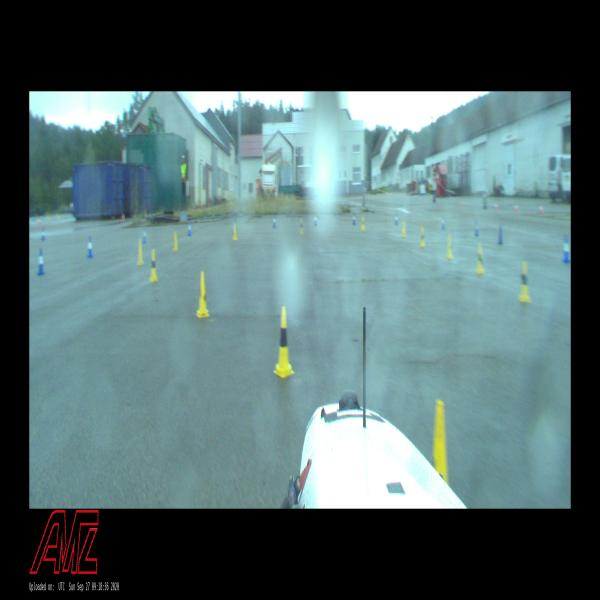blue_cone: (36, 246, 45, 276), (562, 234, 571, 264), (86, 235, 94, 258), (497, 224, 503, 244), (40, 225, 46, 242), (474, 216, 479, 236), (142, 225, 147, 243), (187, 220, 192, 237), (394, 209, 399, 226), (441, 213, 445, 230), (272, 213, 276, 229), (352, 210, 356, 226), (314, 213, 318, 228)
orange_cone: (539, 198, 544, 214), (514, 200, 518, 213), (494, 199, 498, 211)
yellow_cone: (431, 397, 450, 489), (272, 306, 294, 379), (195, 272, 210, 318), (518, 260, 530, 303), (149, 248, 159, 282), (476, 242, 485, 274), (446, 234, 454, 260), (137, 239, 144, 265), (172, 230, 179, 252), (420, 225, 426, 248), (232, 222, 238, 240), (401, 220, 406, 238), (299, 217, 303, 234), (361, 215, 365, 231)
